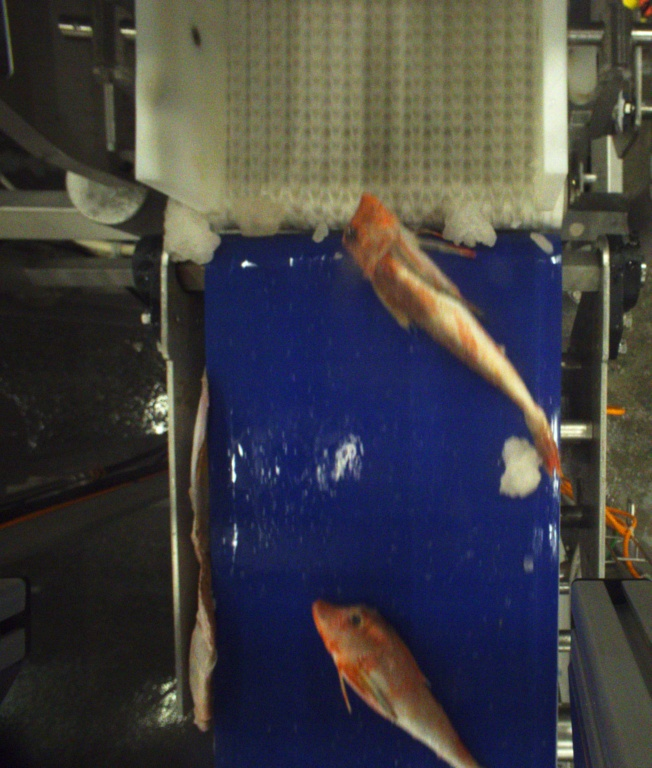GUU: (310, 597, 483, 768)
